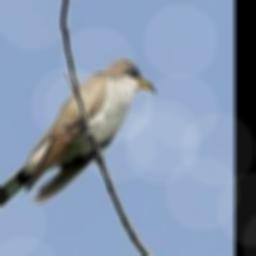Cuckoo: (0, 60, 155, 228)
